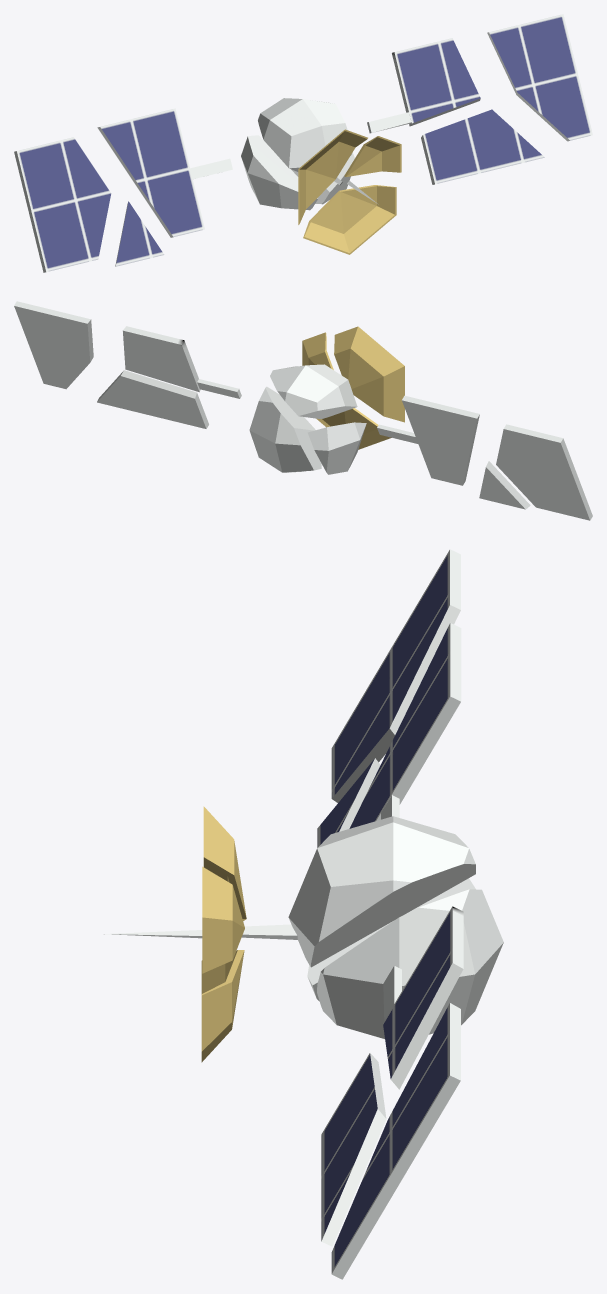
The model's file is SatelliteFragmentsTextured.fbx.
3 renders of one model, top to bottom at view 1: azimuth 30°, elevation 25°; view 2: azimuth 150°, elevation 25°; view 3: azimuth 270°, elevation 25°, orthographic. The views are drawn at different scales.
Visible parts, largest first — view 1: SatelliteFrag, SatelliteFrag.002, SatelliteFrag.003, SatelliteFrag.005, SatelliteFrag.004, SatelliteFrag.009, SatelliteFrag.011, SatelliteFrag.007, SatelliteFrag.012, SatelliteFrag.006, SatelliteFrag.010, SatelliteFrag.008; view 2: SatelliteFrag, SatelliteFrag.002, SatelliteFrag.003, SatelliteFrag.012, SatelliteFrag.008, SatelliteFrag.005, SatelliteFrag.004, SatelliteFrag.009, SatelliteFrag.007, SatelliteFrag.006, SatelliteFrag.011, SatelliteFrag.010; view 3: SatelliteFrag.009, SatelliteFrag.008, SatelliteFrag, SatelliteFrag.003, SatelliteFrag.002, SatelliteFrag.005, SatelliteFrag.004, SatelliteFrag.010, SatelliteFrag.011, SatelliteFrag.012, SatelliteFrag.006, SatelliteFrag.007.
Part boxes in pixels (<box>): SatelliteFrag: <box>14,137,111,272</box>; SatelliteFrag.002: <box>97,108,232,237</box>; SatelliteFrag.003: <box>487,14,592,141</box>; SatelliteFrag.005: <box>367,38,480,133</box>; SatelliteFrag.004: <box>421,109,544,184</box>; SatelliteFrag.009: <box>258,98,352,171</box>; SatelliteFrag.011: <box>303,185,396,254</box>; SatelliteFrag.007: <box>241,135,318,210</box>; SatelliteFrag.012: <box>298,129,367,224</box>; SatelliteFrag.006: <box>115,201,164,266</box>; SatelliteFrag.010: <box>344,136,401,176</box>; SatelliteFrag.008: <box>264,141,354,204</box>; SatelliteFrag: <box>496,424,592,520</box>; SatelliteFrag.002: <box>377,395,479,485</box>; SatelliteFrag.003: <box>14,301,93,389</box>; SatelliteFrag.012: <box>334,326,404,422</box>; SatelliteFrag.008: <box>249,386,321,472</box>; SatelliteFrag.005: <box>123,326,241,398</box>; SatelliteFrag.004: <box>97,370,208,428</box>; SatelliteFrag.009: <box>270,364,357,418</box>; SatelliteFrag.007: <box>307,422,366,474</box>; SatelliteFrag.006: <box>479,461,530,509</box>; SatelliteFrag.011: <box>316,408,391,449</box>; SatelliteFrag.010: <box>302,332,333,369</box>; SatelliteFrag.009: <box>288,816,475,967</box>; SatelliteFrag.008: <box>317,889,503,1038</box>; SatelliteFrag: <box>331,549,460,802</box>; SatelliteFrag.003: <box>331,1003,460,1279</box>; SatelliteFrag.002: <box>349,623,461,828</box>; SatelliteFrag.005: <box>383,906,463,1089</box>; SatelliteFrag.004: <box>321,1053,386,1246</box>; SatelliteFrag.010: <box>202,866,244,973</box>; SatelliteFrag.011: <box>201,950,244,1062</box>; SatelliteFrag.012: <box>203,806,246,920</box>; SatelliteFrag.006: <box>317,758,380,847</box>; SatelliteFrag.007: <box>307,878,475,1001</box>.
Size of the model in its own units: 1012 by 231 by 321.
